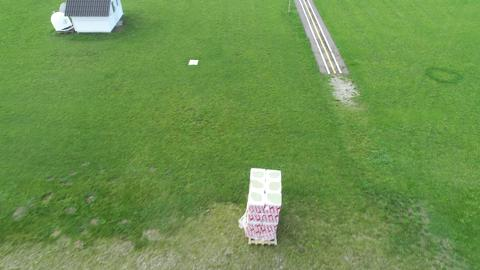RockwoolPallet: (242, 166, 282, 242)
